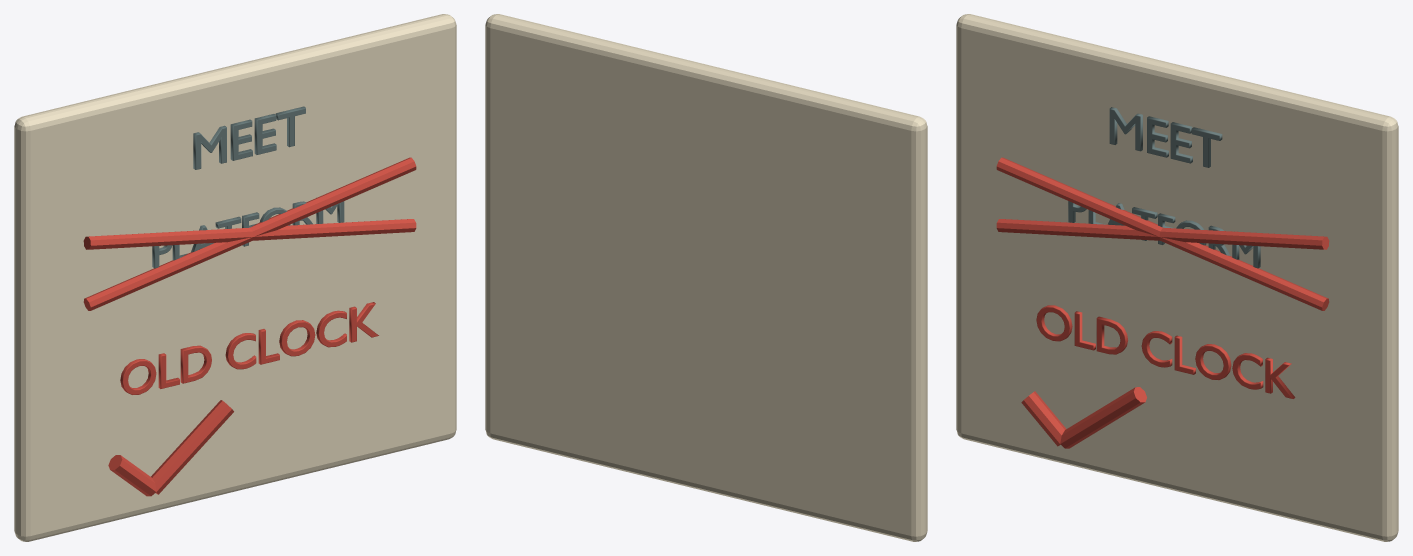
Rendered from meeting-note-clock-v1-C8b0jtAK.glb.
The picture shows the model from 3 angles, left to right: view 1: azimuth 30°, elevation 25°; view 2: azimuth 150°, elevation 25°; view 3: azimuth 330°, elevation 25°; orthographic projection.
Visible parts, largest first — view 1: Note paper, Correction strike one, New place, Correction strike two, Heading, Confirmed tick long, Old place, Confirmed tick short; view 2: Note paper; view 3: Note paper, Correction strike two, New place, Correction strike one, Heading, Confirmed tick long, Old place, Confirmed tick short.
Part boxes in pixels (<box>): Note paper: <box>14,14,456,541</box>; Correction strike one: <box>83,157,416,310</box>; New place: <box>120,302,378,394</box>; Correction strike two: <box>83,219,416,249</box>; Heading: <box>193,106,305,169</box>; Confirmed tick long: <box>151,400,233,494</box>; Old place: <box>152,201,344,268</box>; Confirmed tick short: <box>108,455,156,496</box>; Note paper: <box>485,14,927,541</box>; Note paper: <box>956,14,1398,541</box>; Correction strike two: <box>996,157,1329,310</box>; New place: <box>1036,305,1295,398</box>; Correction strike one: <box>996,219,1329,249</box>; Heading: <box>1109,107,1222,167</box>; Confirmed tick long: <box>1060,387,1146,448</box>; Old place: <box>1068,201,1260,268</box>; Confirmed tick short: <box>1021,391,1066,446</box>.
Bounding box in the file's own units: 1.56 × 1.44 × 0.153.
